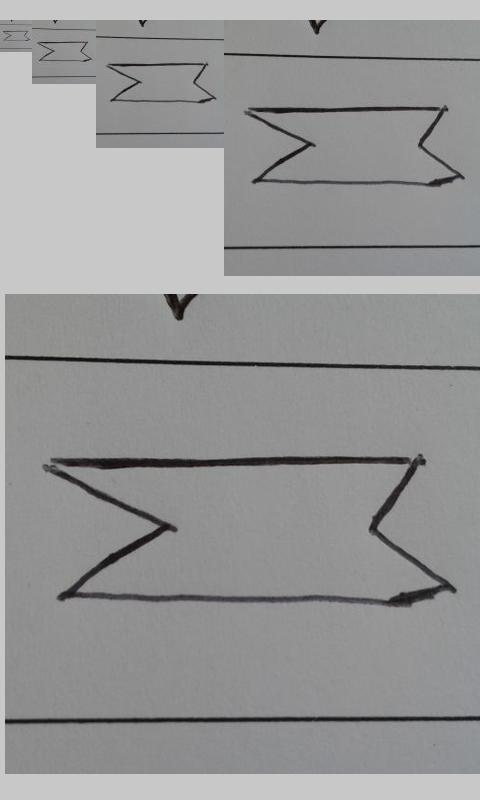edit_text: (44, 451, 452, 611), (243, 106, 464, 188), (106, 63, 215, 103), (37, 41, 92, 62), (3, 30, 30, 42)
